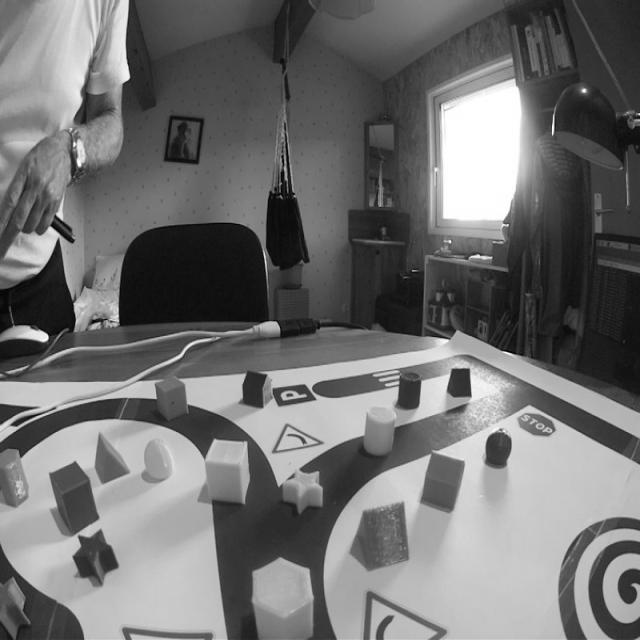ball: (141, 434, 177, 487), (483, 425, 514, 473)
cube: (47, 457, 101, 537), (202, 434, 254, 512), (153, 375, 191, 424)
cylinder: (362, 400, 397, 463), (396, 364, 423, 414)
hexagon: (249, 552, 319, 640), (0, 442, 32, 511)
home: (416, 446, 468, 516), (241, 367, 275, 413)
nest: (548, 506, 640, 640)
star: (69, 527, 122, 591), (278, 464, 329, 518), (0, 570, 32, 640)
triangle: (352, 500, 414, 574), (92, 427, 135, 488), (444, 363, 475, 401)
